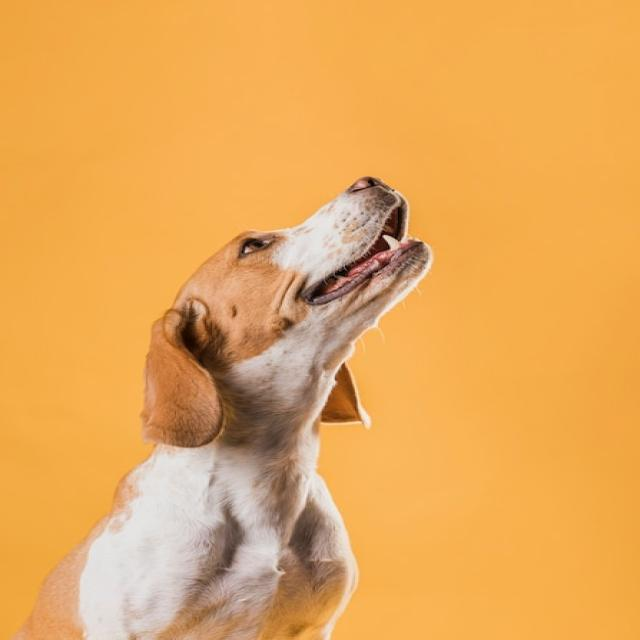Dog: (7, 176, 433, 640)
